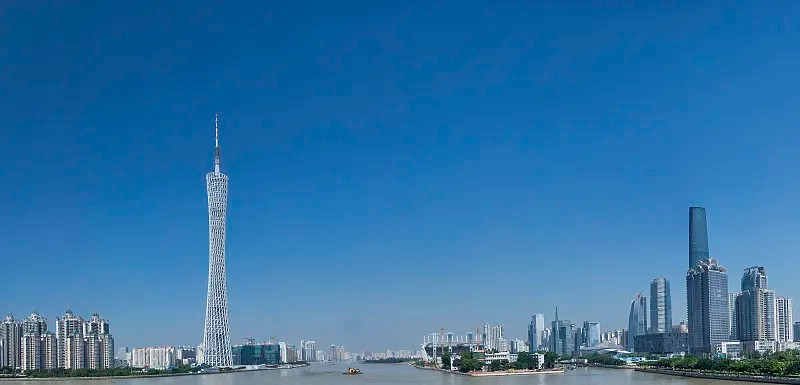Canton: (202, 112, 233, 368)
